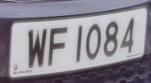0: (84, 18, 103, 66)
1: (73, 20, 87, 68)
4: (119, 13, 138, 59)
8: (102, 17, 121, 62)
F: (47, 23, 71, 71)
W: (25, 25, 48, 73)
